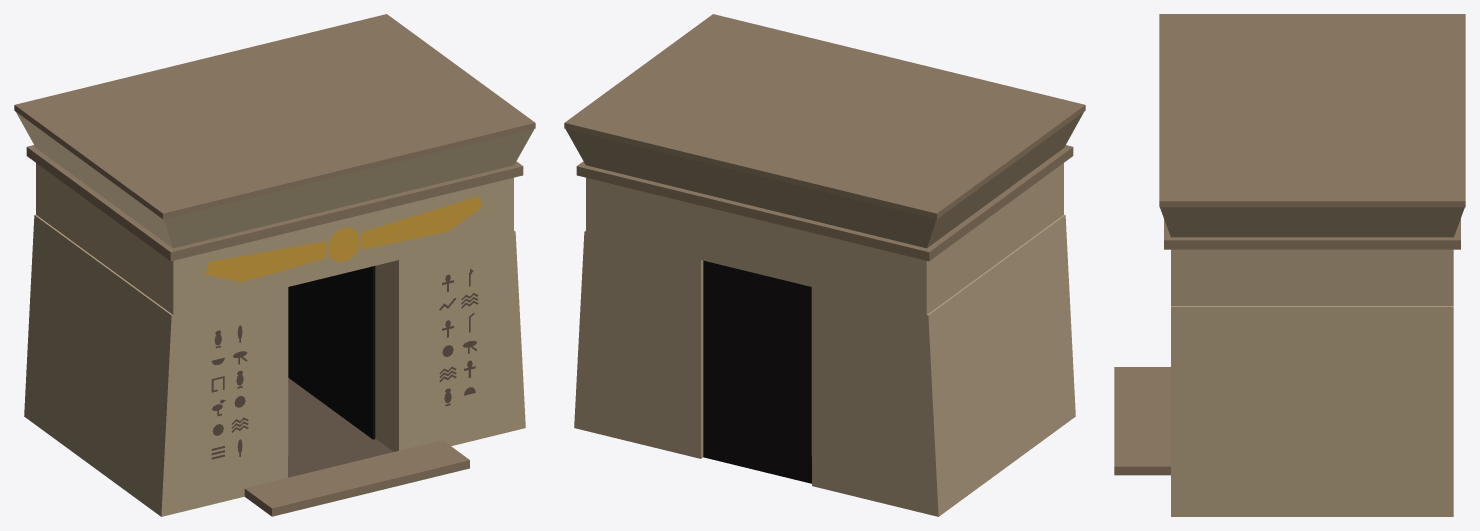
The model's file is pyramid_entrance.glb.
3 views of the same model, side by side, from view 1: azimuth 30°, elevation 25°; view 2: azimuth 150°, elevation 25°; view 3: azimuth 270°, elevation 25° (orthographic). The views are drawn at different scales.
Parts seen in each view (by area): view 1: pyramid_entrance; view 2: pyramid_entrance; view 3: pyramid_entrance.
Boxes of the visible parts, x1,y1,x2,y2 form: pyramid_entrance: [14, 14, 535, 516]; pyramid_entrance: [564, 14, 1085, 516]; pyramid_entrance: [1114, 14, 1465, 516].
Bounding box in the file's own units: 9.4 × 7.44 × 7.45.
